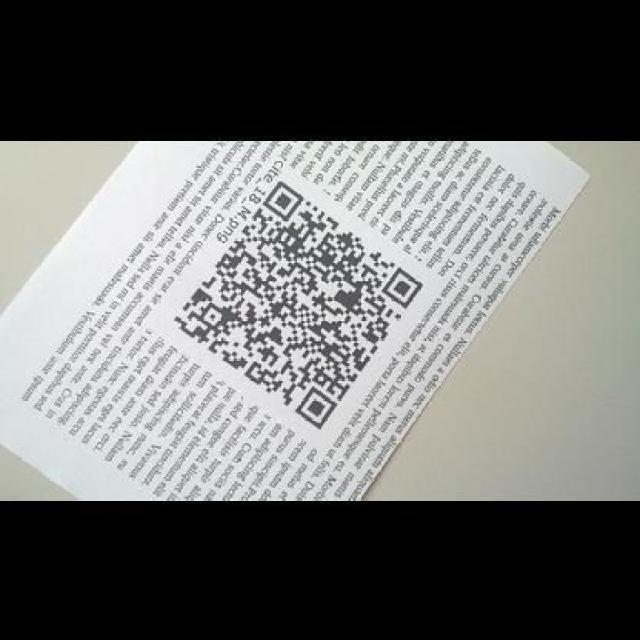QRCode: (167, 173, 429, 434)
